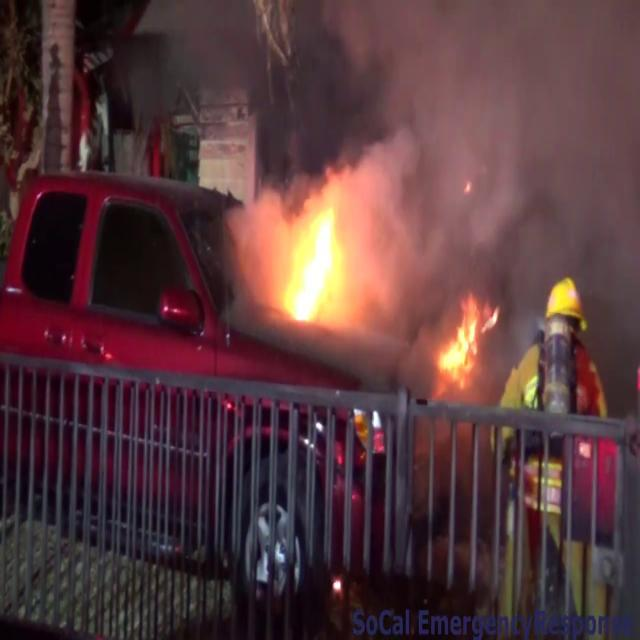Fire: (262, 188, 348, 332), (432, 292, 490, 400)
Smoke: (326, 0, 640, 320)
